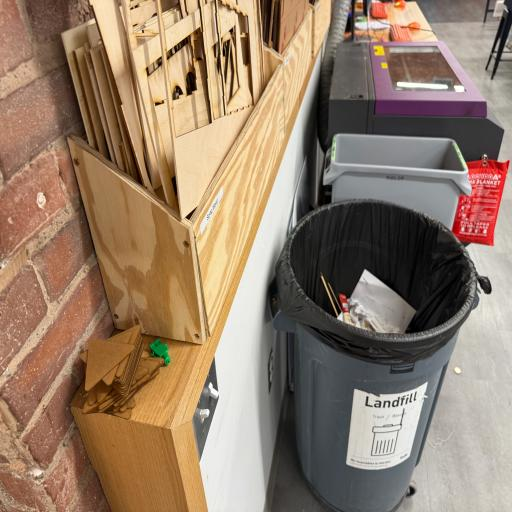Lego-Dude: (150, 338, 173, 365)
